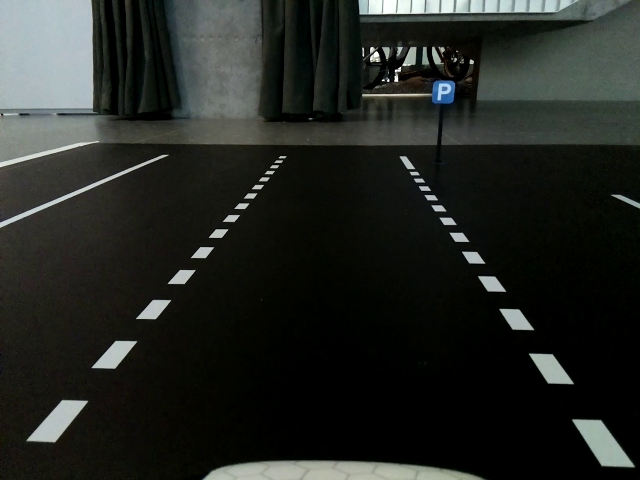park: (431, 81, 455, 105)
